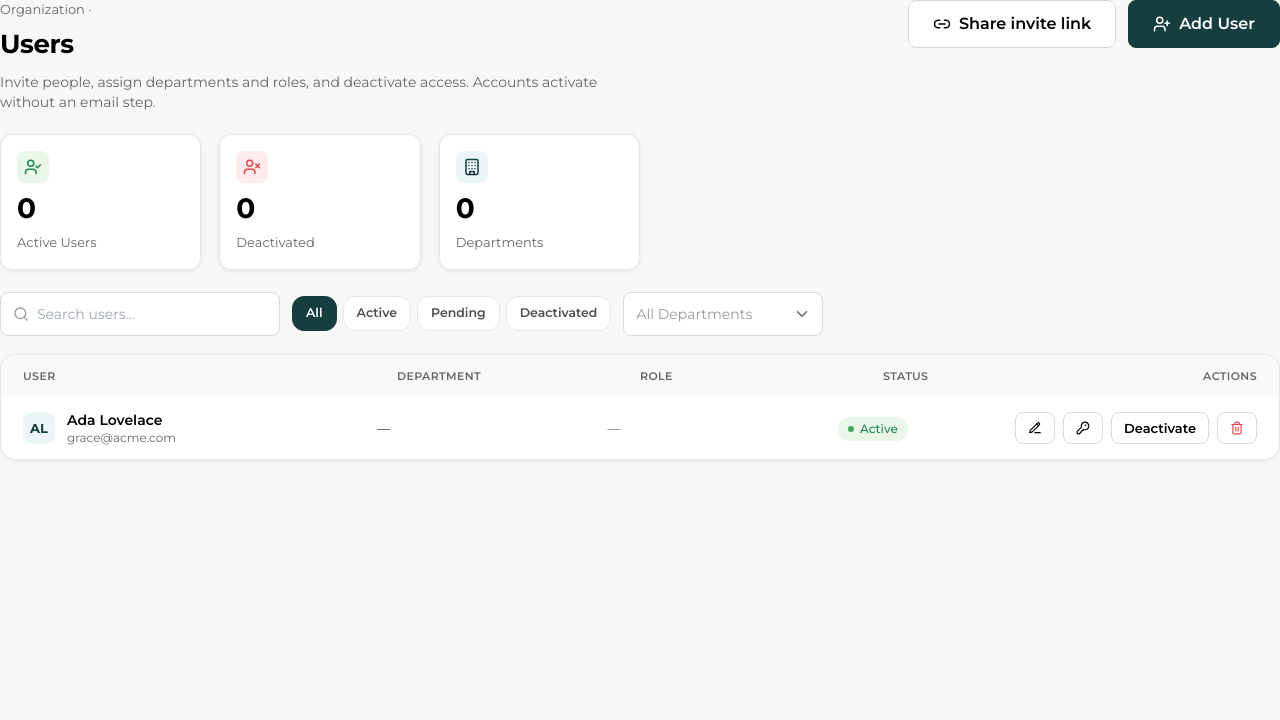
Reset password shows the temporary password, and Copy copies it
Expected: the text "Ada Lovelace" is shown, x1=67 y1=410 x2=176 y2=430
Click the button named "Reset password for Ada Lovelace" at (1083, 428), box x1=1063 y1=412 x2=1103 y2=444
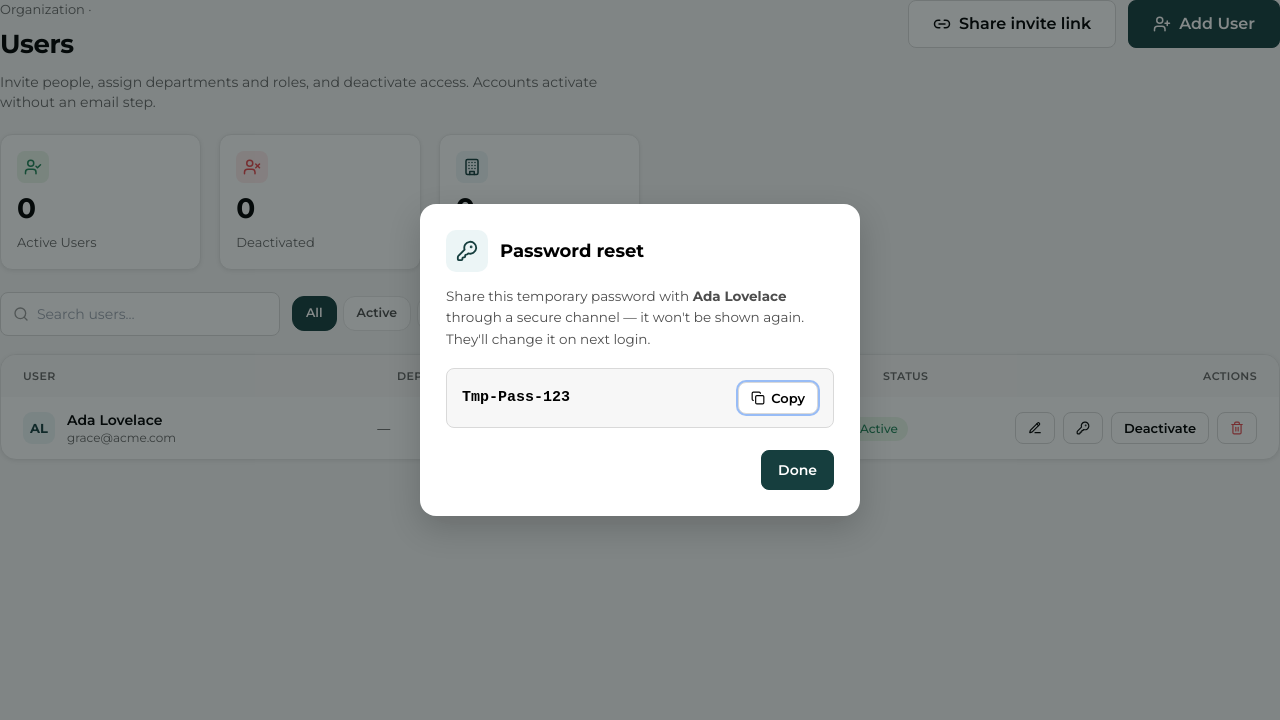
Expected: the text "Tmp-Pass-123" is shown, x1=462 y1=387 x2=570 y2=410
Click the button "Copy" at (778, 398), box x1=738 y1=382 x2=818 y2=414
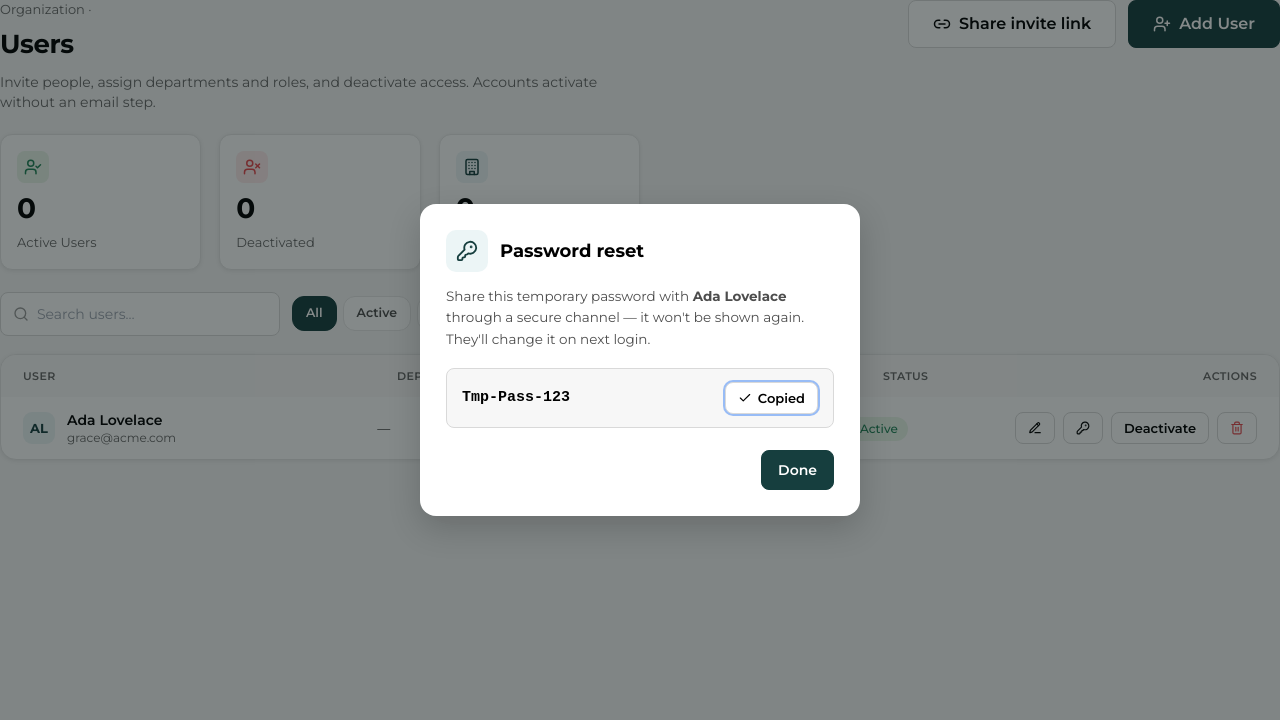
Expected: the button "Copied" is shown, x1=725 y1=382 x2=818 y2=414
